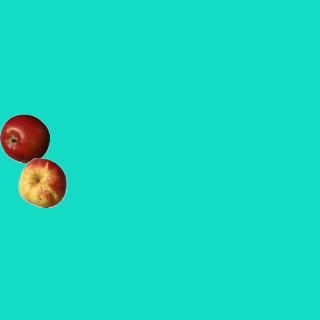Apple Braeburn: (0, 113, 49, 163)
Apple Red Yellow 1: (17, 157, 67, 207)
